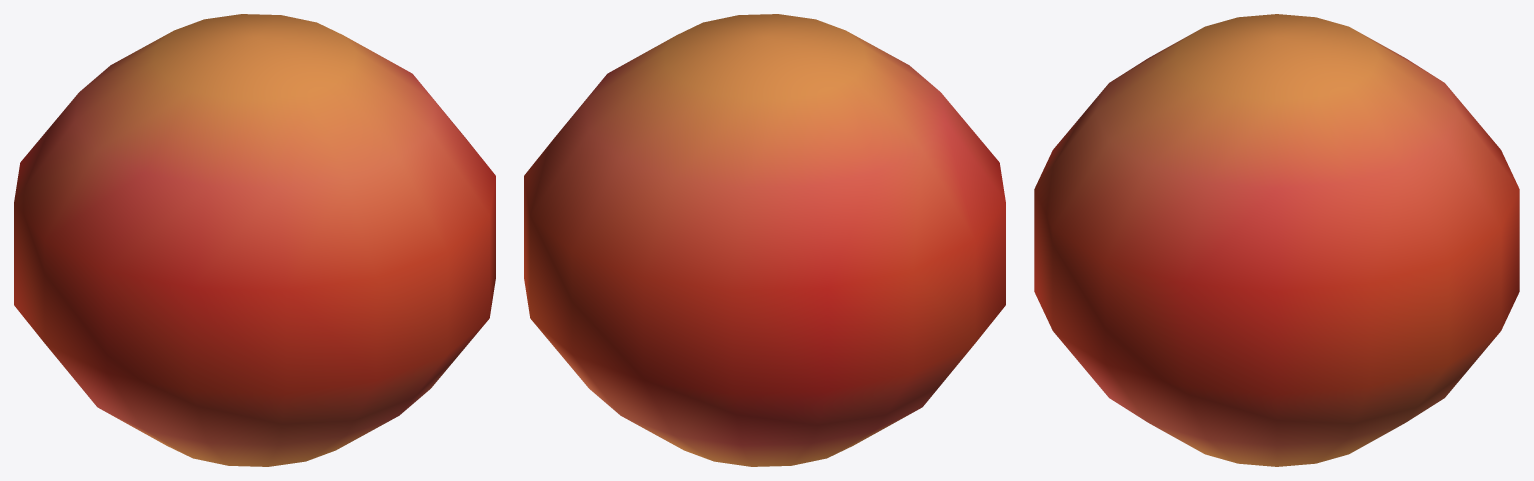
Rendered from space-stars-red-giant_v1.glb.
3 renders of one model, left to right at view 1: azimuth 30°, elevation 25°; view 2: azimuth 150°, elevation 25°; view 3: azimuth 270°, elevation 25°, orthographic.
Visible parts, largest first — view 1: Red Giant; view 2: Red Giant; view 3: Red Giant.
Boxes of the visible parts, box(x1,y1,x2,y2) form: Red Giant: box(14, 14, 495, 466); Red Giant: box(524, 14, 1005, 466); Red Giant: box(1034, 14, 1519, 466).
Bounding box in the file's own units: 0.5 × 0.4661 × 0.5.
